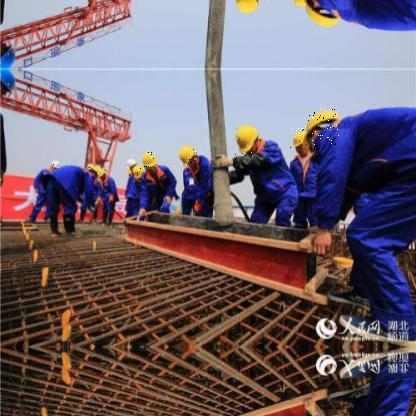safetyhelmet: (304, 110, 340, 148), (235, 124, 260, 156), (180, 142, 199, 168), (290, 128, 305, 150), (143, 152, 157, 170), (132, 164, 146, 180), (92, 166, 107, 178), (86, 164, 100, 174), (126, 158, 137, 170), (51, 160, 60, 170)
